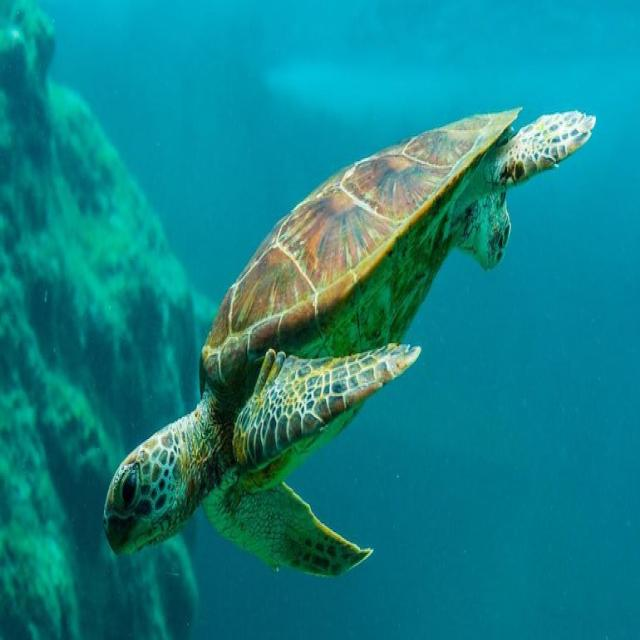turtle: (54, 298, 401, 610)
